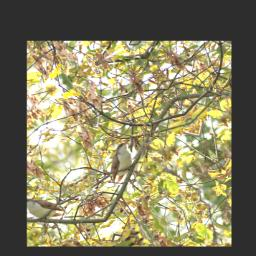Cuckoo: (90, 135, 148, 187)
